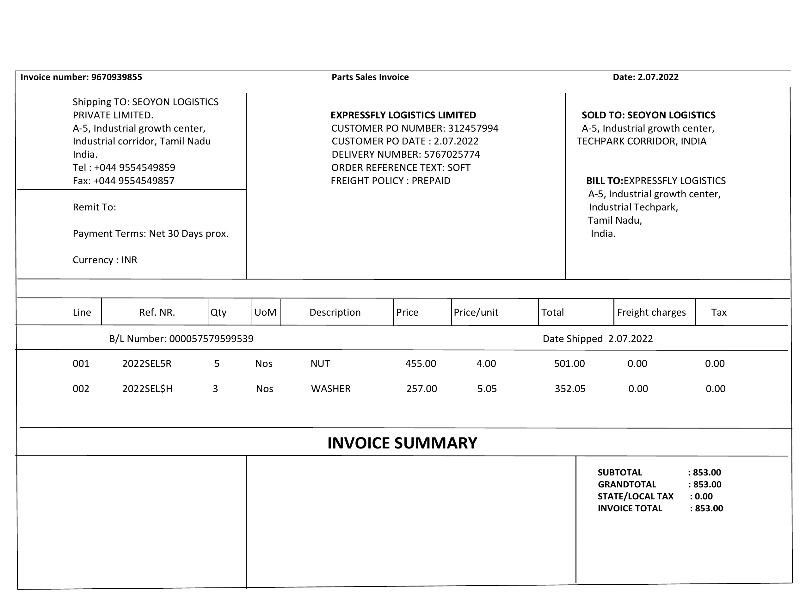Bordered: (16, 298, 793, 427)
